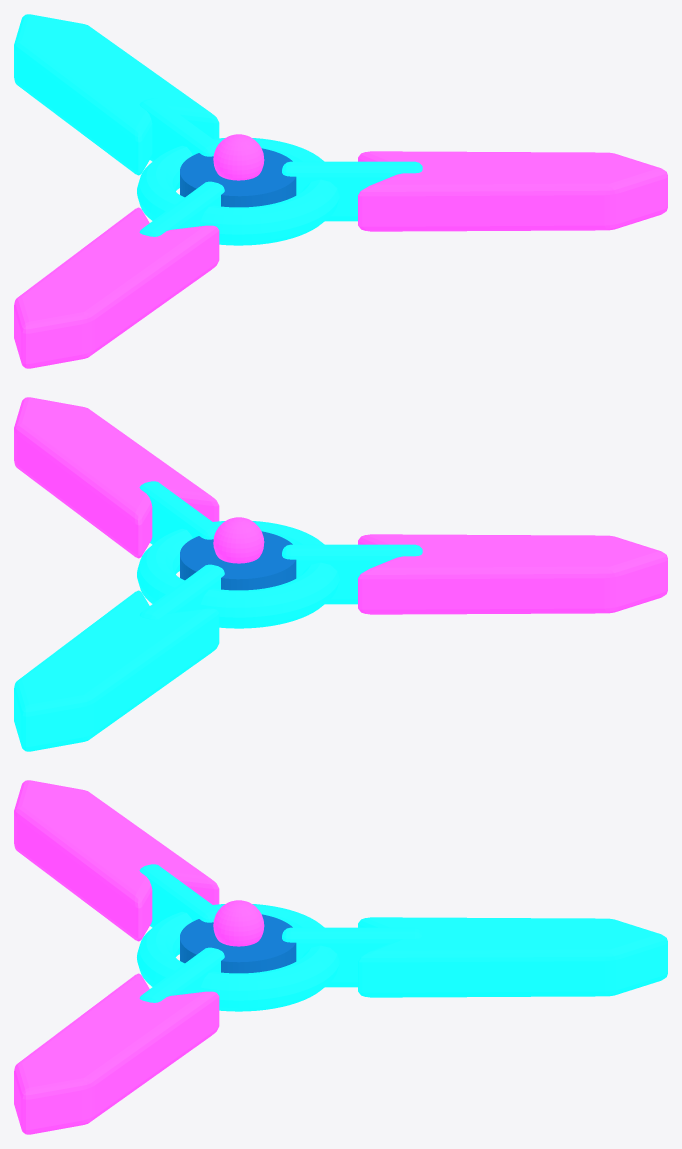
Rendered from amx-mark.glb.
The picture shows the model from 3 angles, top to bottom: view 1: azimuth 30°, elevation 25°; view 2: azimuth 150°, elevation 25°; view 3: azimuth 270°, elevation 25°; orthographic projection.
Visible parts, largest first — view 1: AMX_Blade_3, AMX_Blade_2, AMX_Blade_1, AMX_Core_Ring, AMX_Core, AMX_Spoke_3, AMX_Spoke_1, AMX_Spoke_2, AMX_Signal; view 2: AMX_Blade_2, AMX_Blade_1, AMX_Blade_3, AMX_Core_Ring, AMX_Core, AMX_Spoke_2, AMX_Spoke_3, AMX_Spoke_1, AMX_Signal; view 3: AMX_Blade_1, AMX_Blade_3, AMX_Blade_2, AMX_Core_Ring, AMX_Core, AMX_Spoke_1, AMX_Spoke_2, AMX_Spoke_3, AMX_Signal.
Boxes of the visible parts, x1=… form: AMX_Blade_3: x1=358, y1=151, x2=667, y2=231; AMX_Blade_2: x1=14, y1=207, x2=219, y2=368; AMX_Blade_1: x1=14, y1=14, x2=219, y2=175; AMX_Core_Ring: x1=137, y1=138, x2=339, y2=245; AMX_Core: x1=180, y1=148, x2=296, y2=207; AMX_Spoke_3: x1=282, y1=161, x2=422, y2=221; AMX_Spoke_1: x1=139, y1=98, x2=218, y2=161; AMX_Spoke_2: x1=139, y1=181, x2=224, y2=236; AMX_Signal: x1=213, y1=134, x2=264, y2=180; AMX_Blade_2: x1=358, y1=534, x2=667, y2=614; AMX_Blade_1: x1=14, y1=590, x2=219, y2=751; AMX_Blade_3: x1=14, y1=397, x2=219, y2=558; AMX_Core_Ring: x1=137, y1=521, x2=339, y2=628; AMX_Core: x1=180, y1=531, x2=296, y2=590; AMX_Spoke_2: x1=282, y1=544, x2=422, y2=604; AMX_Spoke_3: x1=139, y1=481, x2=218, y2=544; AMX_Spoke_1: x1=139, y1=564, x2=224, y2=619; AMX_Signal: x1=213, y1=517, x2=264, y2=563; AMX_Blade_1: x1=358, y1=917, x2=667, y2=997; AMX_Blade_3: x1=14, y1=973, x2=219, y2=1134; AMX_Blade_2: x1=14, y1=780, x2=219, y2=941; AMX_Core_Ring: x1=137, y1=904, x2=339, y2=1011; AMX_Core: x1=180, y1=914, x2=296, y2=973; AMX_Spoke_1: x1=282, y1=927, x2=422, y2=987; AMX_Spoke_2: x1=139, y1=864, x2=218, y2=927; AMX_Spoke_3: x1=139, y1=947, x2=224, y2=1002; AMX_Signal: x1=213, y1=900, x2=264, y2=946.
Bounding box in the file's own units: 3.37 × 0.4104 × 2.95.
